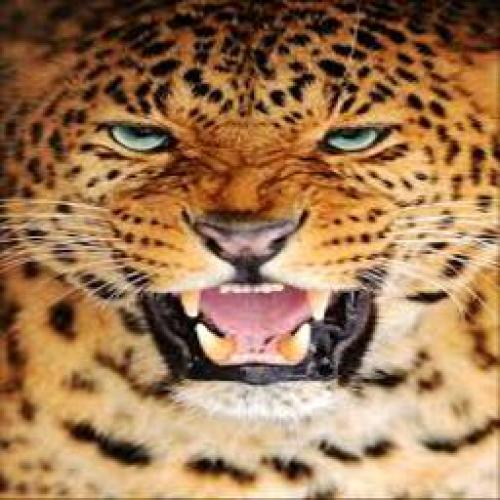amur_leopard-endangered: (51, 21, 453, 445)
